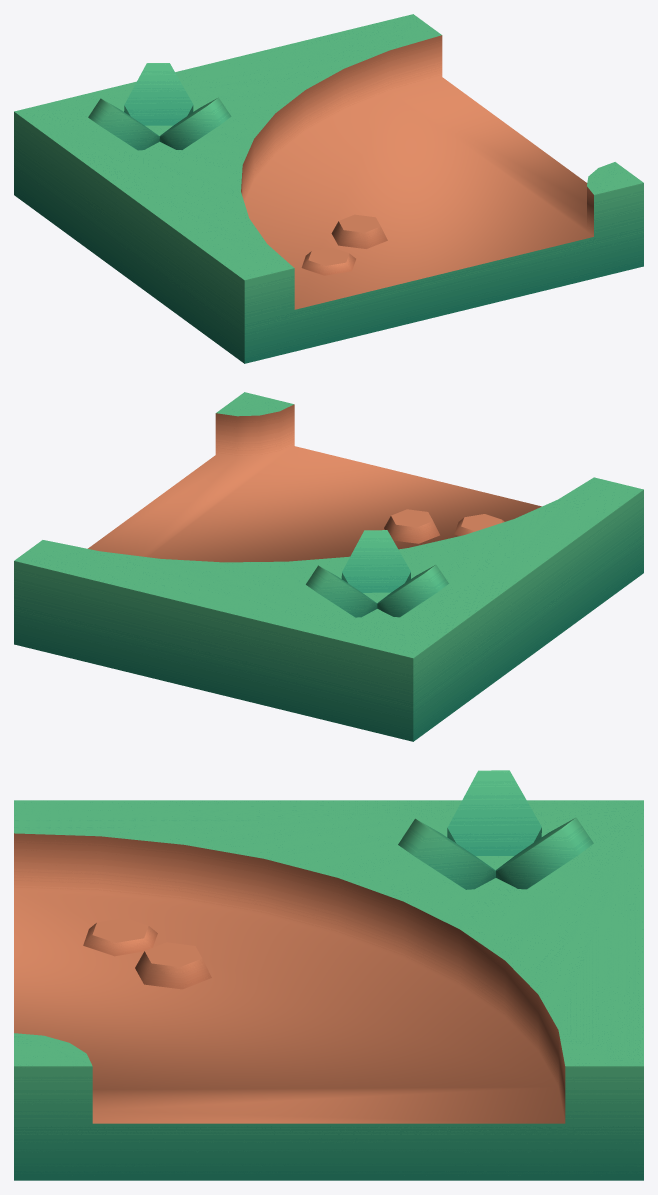
File: tile-corner.glb
3 renders of one model, top to bottom at view 1: azimuth 30°, elevation 25°; view 2: azimuth 150°, elevation 25°; view 3: azimuth 270°, elevation 25°, orthographic. The views are drawn at different scales.
Parts seen in each view (by area): view 1: tile-corner-round; view 2: tile-corner-round; view 3: tile-corner-round.
Part boxes in pixels (left/top/right/bottom): tile-corner-round: left=14, top=14, right=643, bottom=363; tile-corner-round: left=14, top=392, right=643, bottom=741; tile-corner-round: left=14, top=770, right=643, bottom=1180.
Bounding box in the file's own units: 1 × 0.296 × 1.
Materials: 1 (1 with a texture image).
